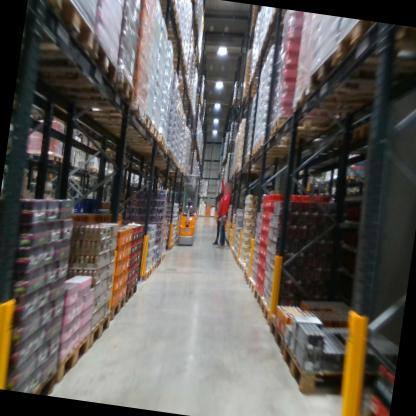pallet: (276, 327, 397, 404), (301, 42, 416, 109), (264, 298, 371, 370), (22, 23, 122, 97), (19, 0, 102, 73), (330, 18, 416, 81), (289, 79, 397, 127), (54, 58, 138, 110), (268, 110, 348, 148), (50, 327, 90, 388), (83, 92, 147, 130), (256, 131, 333, 160), (104, 108, 156, 136), (86, 306, 112, 357), (112, 118, 160, 145), (122, 127, 166, 152), (347, 117, 377, 150), (249, 141, 289, 165), (32, 364, 58, 396), (108, 288, 127, 322), (119, 275, 138, 308), (38, 146, 66, 166), (89, 141, 120, 159), (258, 295, 272, 331), (152, 0, 180, 16), (251, 285, 265, 309), (79, 165, 103, 176), (246, 274, 258, 293), (340, 173, 353, 187), (140, 265, 152, 279), (147, 261, 157, 277), (236, 256, 246, 269), (243, 270, 251, 285), (71, 174, 81, 184), (155, 255, 162, 269), (240, 264, 247, 277), (65, 175, 73, 183), (160, 252, 166, 262)
pallet_truck: (173, 170, 206, 251)
